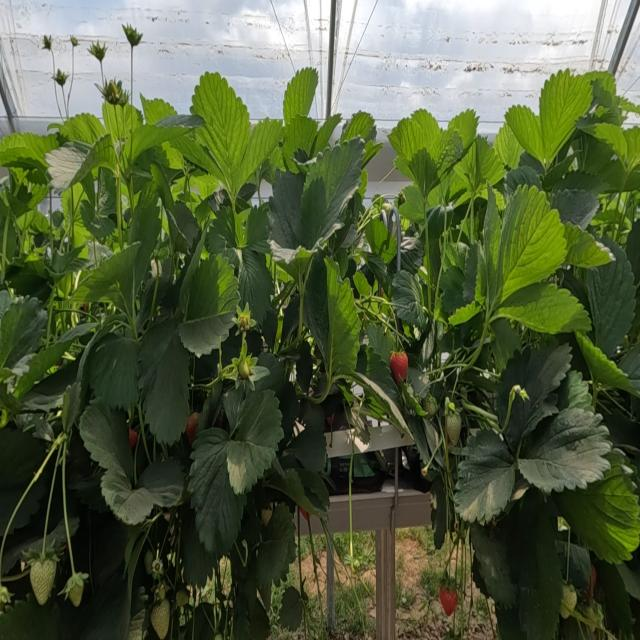Flowers: (87, 42, 106, 63), (52, 70, 67, 89)
Leaves: (489, 185, 566, 311), (501, 490, 563, 639), (560, 453, 639, 563), (519, 406, 611, 492), (189, 427, 245, 558), (304, 256, 360, 387), (300, 139, 363, 249), (496, 344, 571, 430), (582, 237, 635, 357), (193, 73, 250, 182), (178, 254, 239, 355), (227, 391, 283, 494), (455, 430, 515, 523), (143, 326, 190, 444), (494, 282, 591, 334), (539, 70, 591, 165), (1, 428, 47, 535), (119, 199, 161, 314), (71, 506, 129, 587), (388, 109, 442, 196), (80, 399, 132, 480), (356, 352, 407, 434), (73, 244, 139, 301), (470, 523, 515, 606), (88, 338, 139, 410), (256, 504, 295, 594), (234, 119, 283, 189), (1, 296, 47, 367), (593, 556, 631, 638), (576, 334, 631, 390), (283, 403, 326, 472), (236, 247, 273, 324), (268, 171, 304, 250), (101, 468, 151, 524), (0, 594, 59, 639), (505, 105, 544, 165), (138, 457, 183, 507), (46, 142, 90, 192), (459, 137, 504, 185), (388, 118, 434, 161), (1, 132, 57, 167), (283, 67, 317, 124), (391, 270, 425, 327), (282, 115, 318, 166), (554, 190, 599, 229), (58, 114, 106, 145), (128, 124, 166, 162), (447, 109, 479, 149), (365, 324, 393, 363), (279, 586, 303, 631), (399, 185, 423, 222), (141, 97, 175, 123), (157, 114, 203, 127)
Strawberries: (30, 559, 55, 604), (100, 80, 127, 106), (65, 572, 85, 607), (151, 601, 169, 638), (234, 304, 255, 331), (439, 586, 457, 615), (445, 413, 461, 444), (561, 584, 575, 619), (391, 352, 407, 380), (185, 413, 198, 442), (422, 395, 437, 418), (262, 508, 271, 524), (129, 430, 137, 447)
